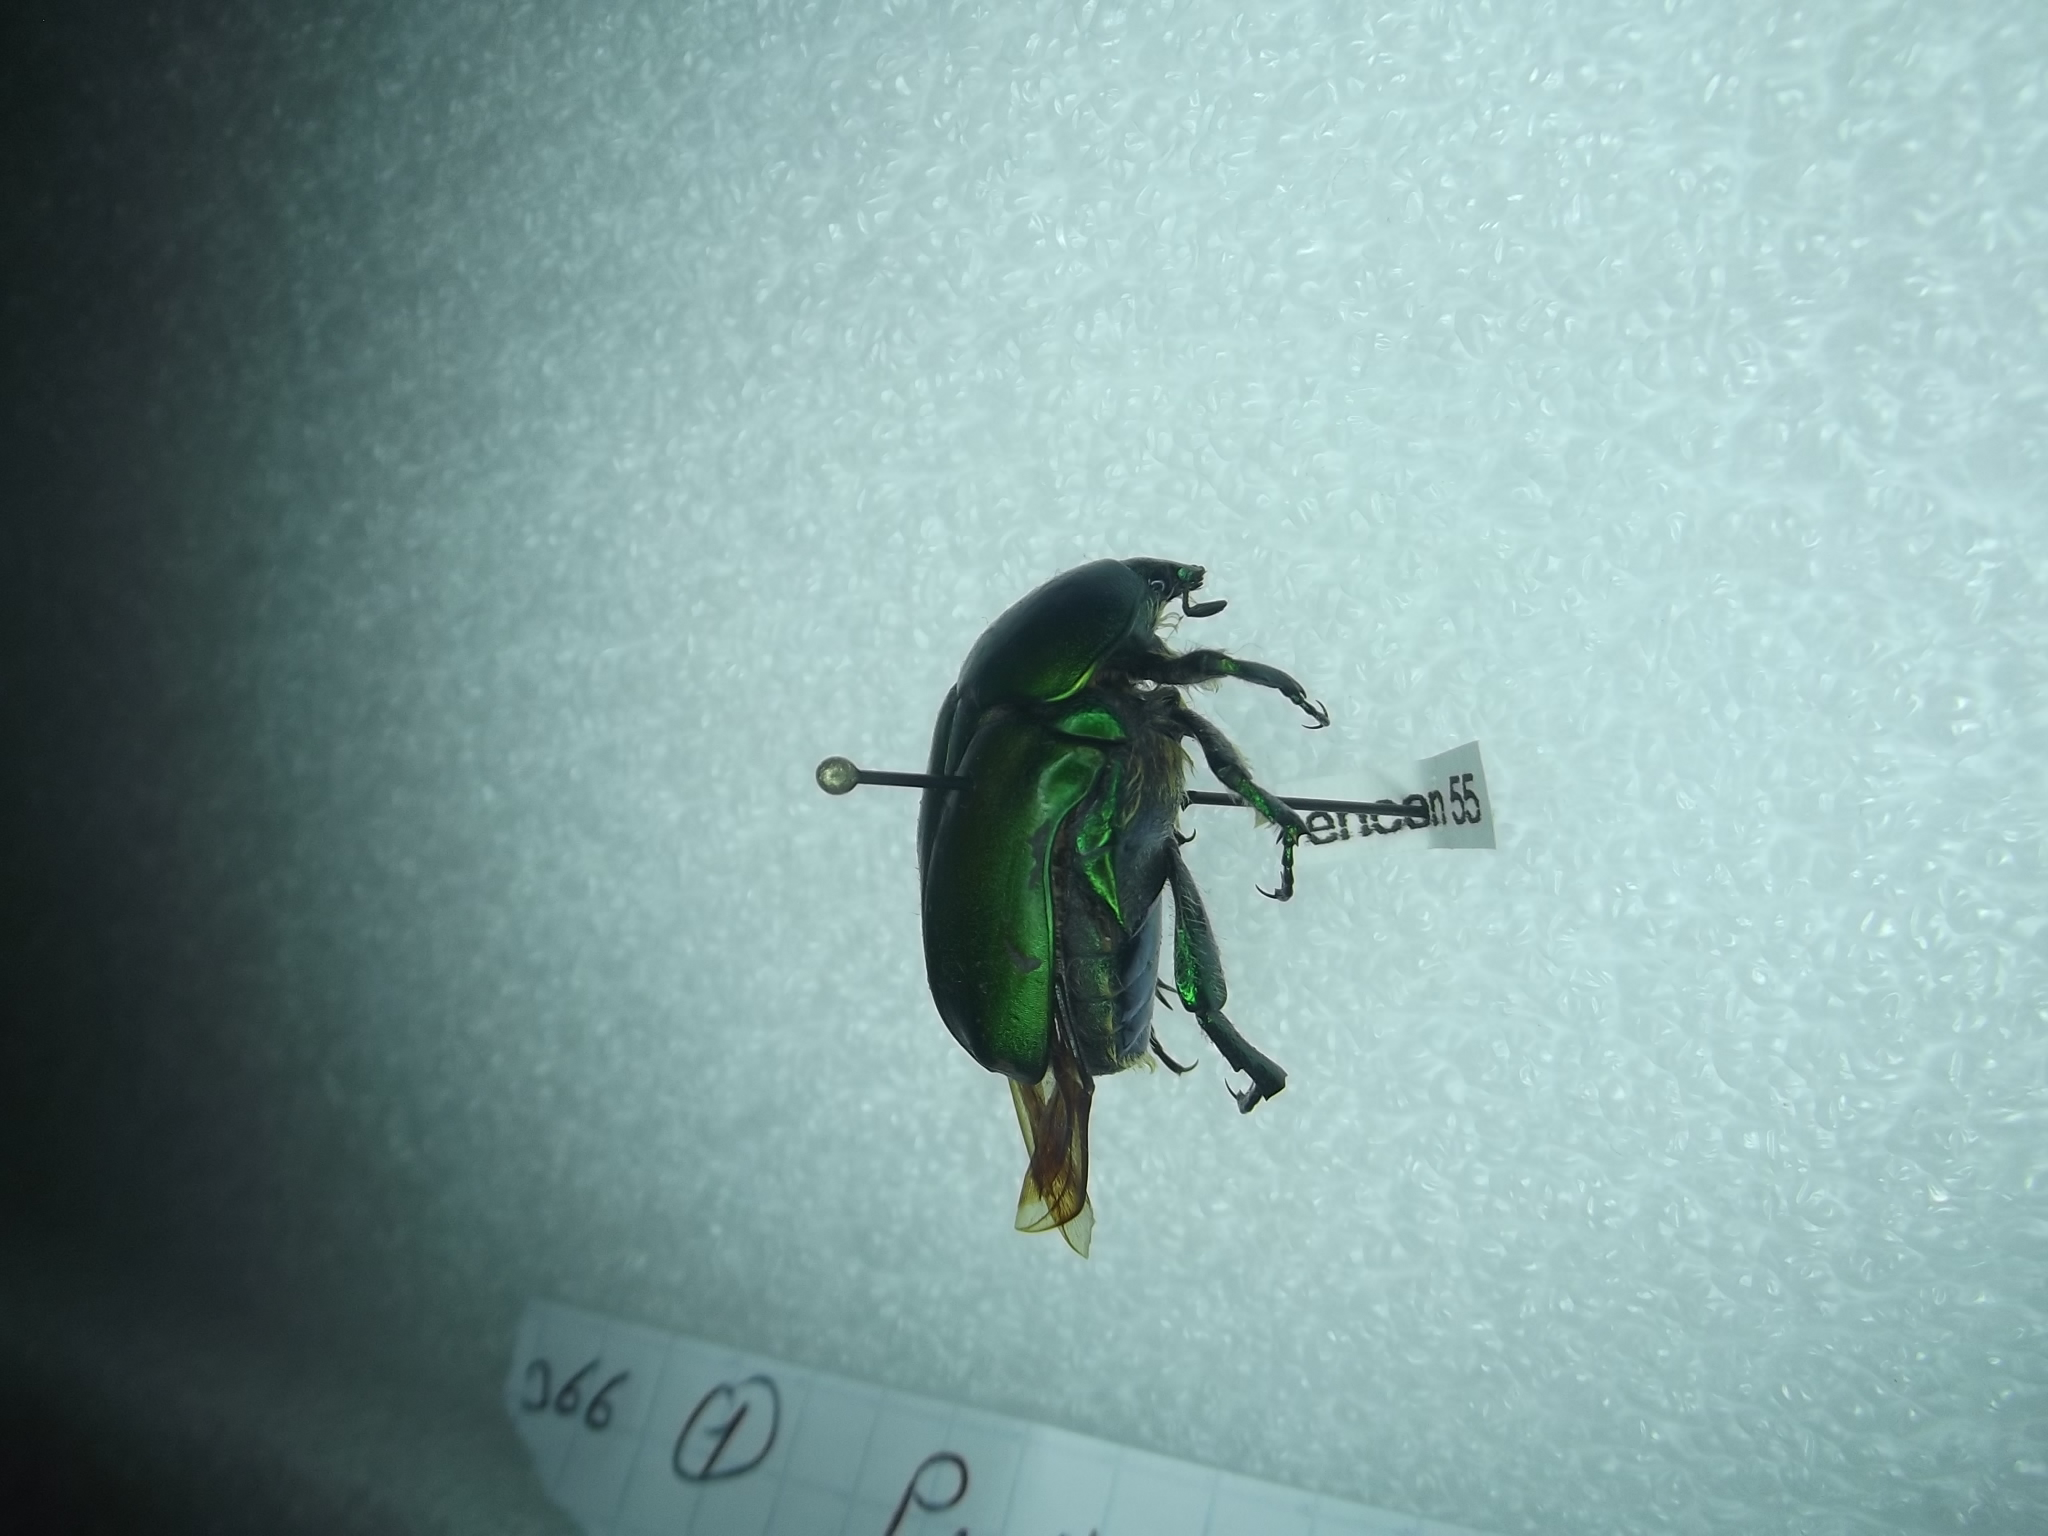Protaetia_ungarica_americana: (910, 515, 1353, 1270)
